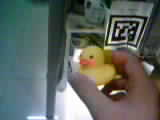duck: (69, 40, 124, 88)
